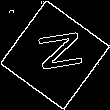N_W: (27, 31, 83, 79)
